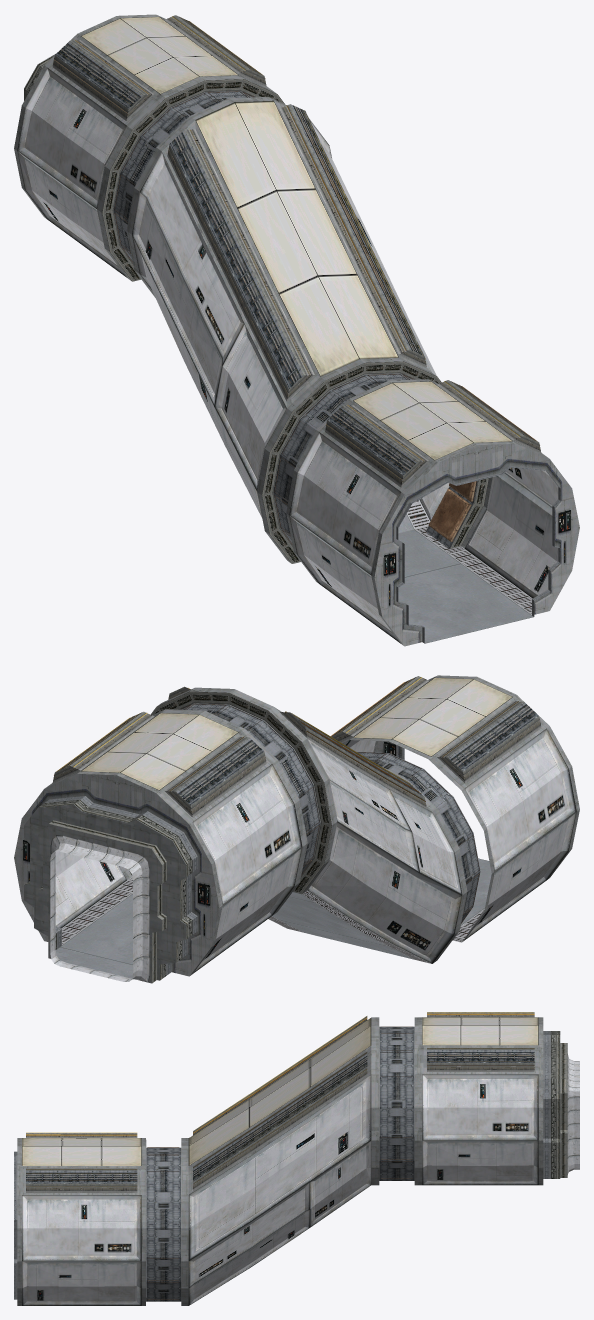
The model's file is poi_all_rebl_bunker_s01_r7_hallway1_mesh_r7.fbx.
3 renders of one model, top to bottom at view 1: azimuth 30°, elevation 25°; view 2: azimuth 150°, elevation 25°; view 3: azimuth 270°, elevation 25°, orthographic. The views are drawn at different scales.
Visible parts, largest first — view 1: mesh_node; view 2: mesh_node; view 3: mesh_node.
Boxes of the visible parts, box(x1,y1,x2,y2) form: mesh_node: box(14, 14, 579, 646); mesh_node: box(14, 675, 579, 983); mesh_node: box(14, 1012, 579, 1305).
Size of the model in its own units: 5.2 by 8.44 by 17.
